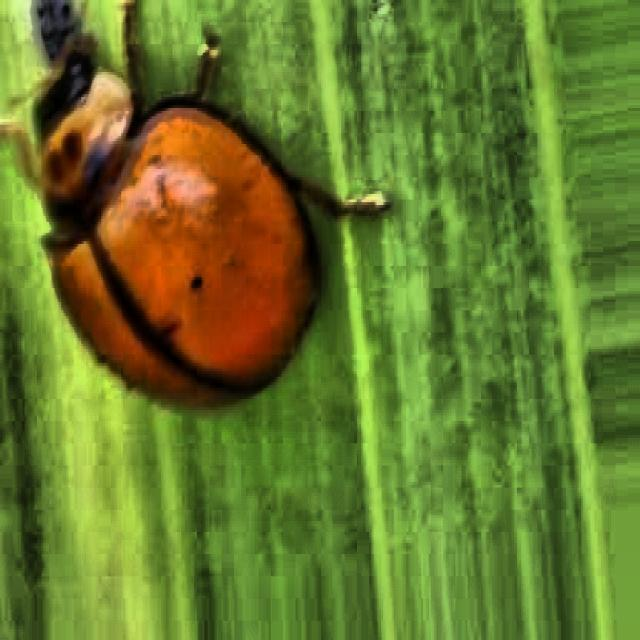Ladybug: (1, 4, 369, 464)
